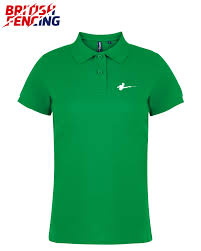S_polo shirt: (17, 29, 190, 243)
